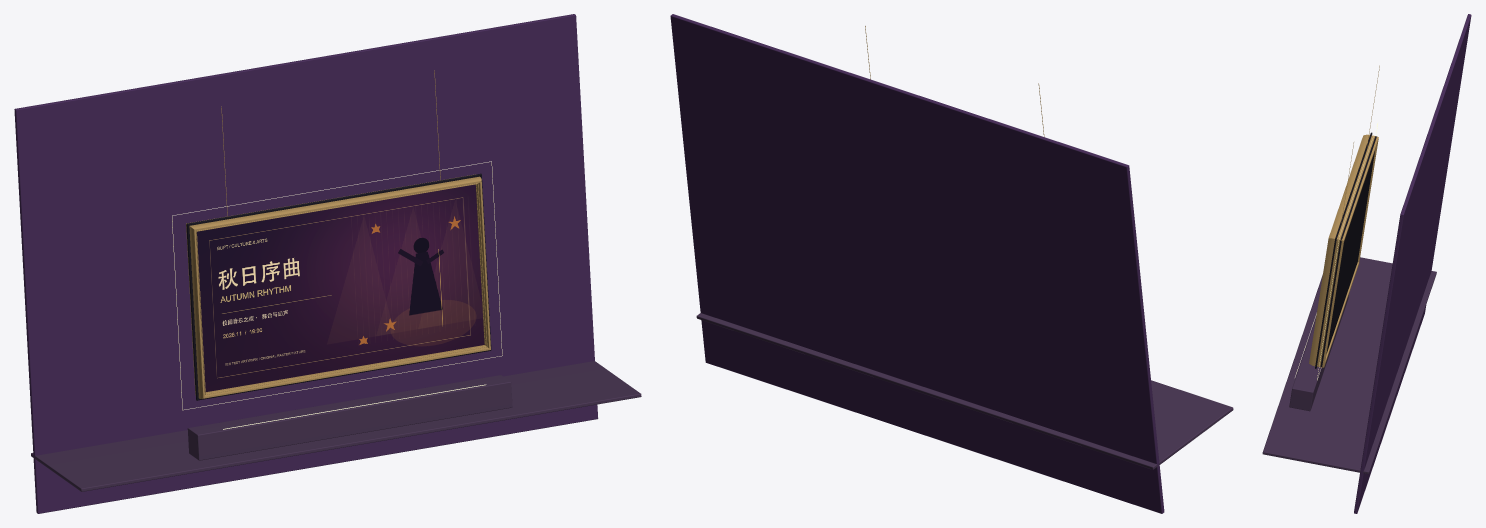
3 renders of one model, left to right at view 1: azimuth 30°, elevation 25°; view 2: azimuth 150°, elevation 25°; view 3: azimuth 270°, elevation 25°, orthographic. The views are drawn at different scales.
Parts seen in each view (by area): view 1: Gallery background, Original poster · original aspect, Gallery floor, Forward floating plinth, Hero frame · swept 13-step miter profile, Recessed black shadow reveal, Floating halo; view 2: Gallery background, Gallery floor; view 3: Gallery floor, Gallery background, Hero frame · swept 13-step miter profile, Floating backing, Forward floating plinth, Recessed black shadow reveal.
Boxes of the visible parts, bbox=[...] form: Gallery background: bbox=[14, 14, 598, 513]; Original poster · original aspect: bbox=[197, 184, 484, 391]; Gallery floor: bbox=[31, 361, 641, 491]; Forward floating plinth: bbox=[187, 375, 512, 460]; Hero frame · swept 13-step miter profile: bbox=[186, 174, 490, 398]; Recessed black shadow reveal: bbox=[186, 173, 491, 400]; Floating halo: bbox=[172, 161, 502, 410]; Gallery background: bbox=[670, 14, 1164, 513]; Gallery floor: bbox=[696, 313, 1233, 469]; Gallery floor: bbox=[1262, 257, 1436, 474]; Gallery background: bbox=[1354, 14, 1471, 513]; Hero frame · swept 13-step miter profile: bbox=[1309, 134, 1378, 367]; Floating backing: bbox=[1320, 136, 1376, 366]; Forward floating plinth: bbox=[1289, 295, 1348, 411]; Recessed black shadow reveal: bbox=[1315, 132, 1372, 368].
Size of the model in its own units: 20.46 by 14.11 by 8.65.
Materials: 7 (1 with a texture image).
